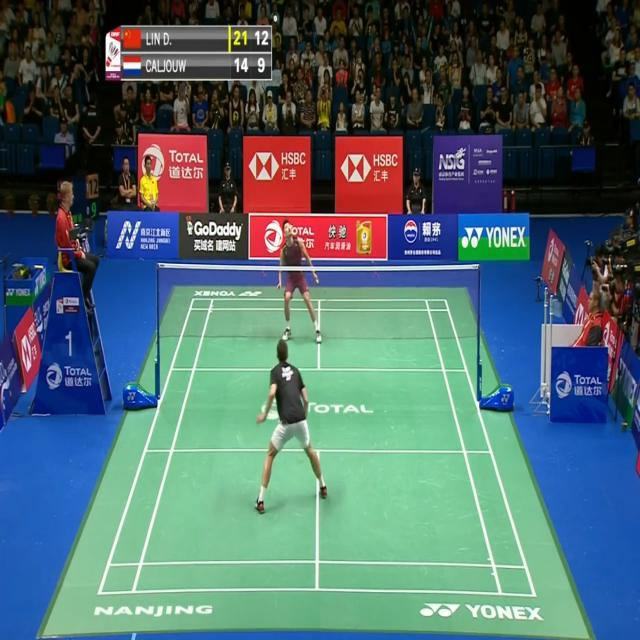Player1: (254, 337, 328, 515)
Player2: (268, 217, 328, 346)
